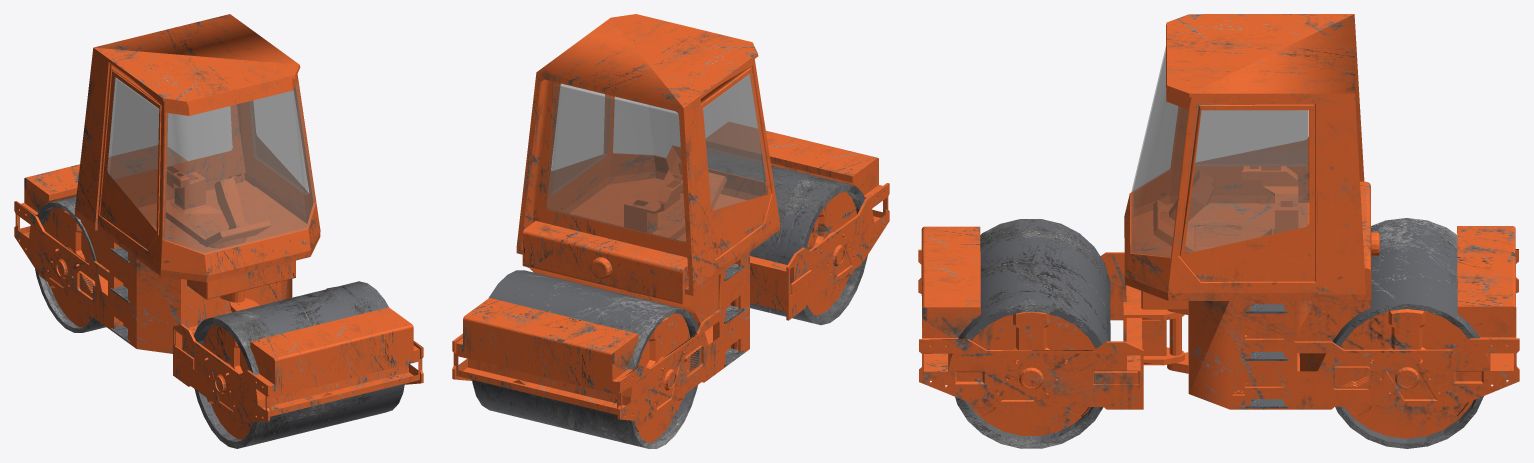
The model's file is yaluji.FBX.
3 views of the same model, side by side, from view 1: azimuth 30°, elevation 25°; view 2: azimuth 150°, elevation 25°; view 3: azimuth 270°, elevation 25° (orthographic). The views are drawn at different scales.
Parts seen in each view (by area): view 1: yaluji; view 2: yaluji; view 3: yaluji.
Boxes of the visible parts, x1,y1,x2,y2 form: yaluji: (14, 14, 423, 448); yaluji: (452, 14, 889, 448); yaluji: (918, 14, 1519, 448).
Size of the model in its own units: 237 by 407 by 630.
Materials: 3 (2 with a texture image).
